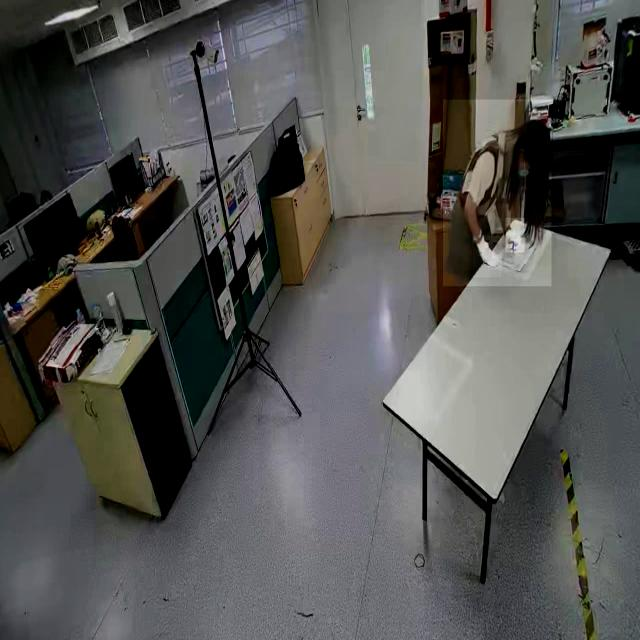face_mask: (515, 144, 538, 187)
hand_glove: (472, 236, 502, 278), (505, 218, 525, 253)
head_nohelmet: (537, 116, 553, 170)
person: (442, 100, 552, 287)
